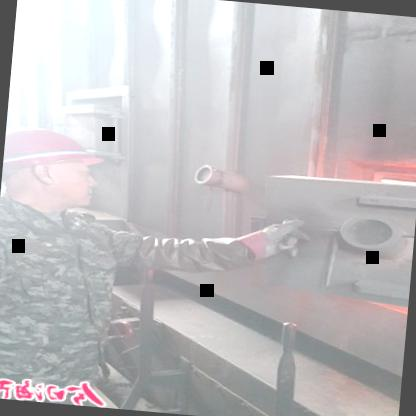helmet: (0, 109, 122, 227)
